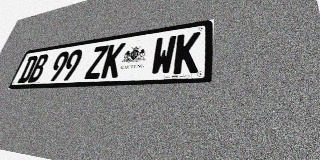9: (60, 49, 84, 81), (47, 51, 71, 81)
B: (27, 54, 50, 83)
D: (17, 55, 39, 83)
K: (173, 31, 201, 74), (100, 42, 126, 78)
W: (149, 35, 177, 76)
Z: (84, 45, 109, 79)
